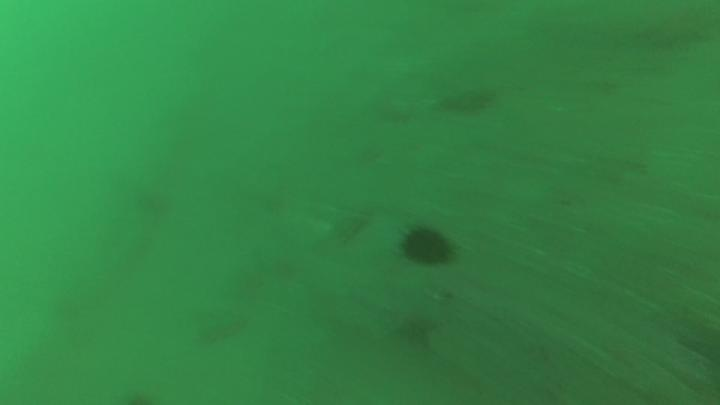echinus: (396, 221, 462, 272)
